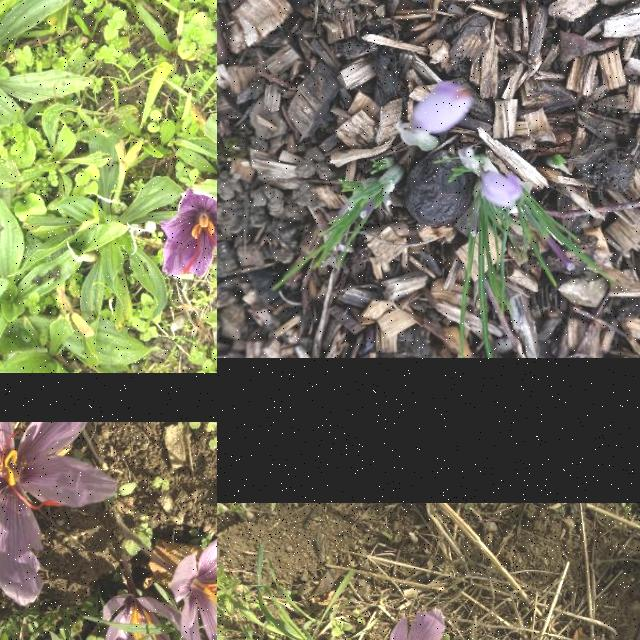flower: (0, 422, 123, 604), (156, 185, 217, 299), (171, 531, 217, 640), (101, 590, 182, 640), (362, 609, 466, 640), (414, 81, 474, 133)
